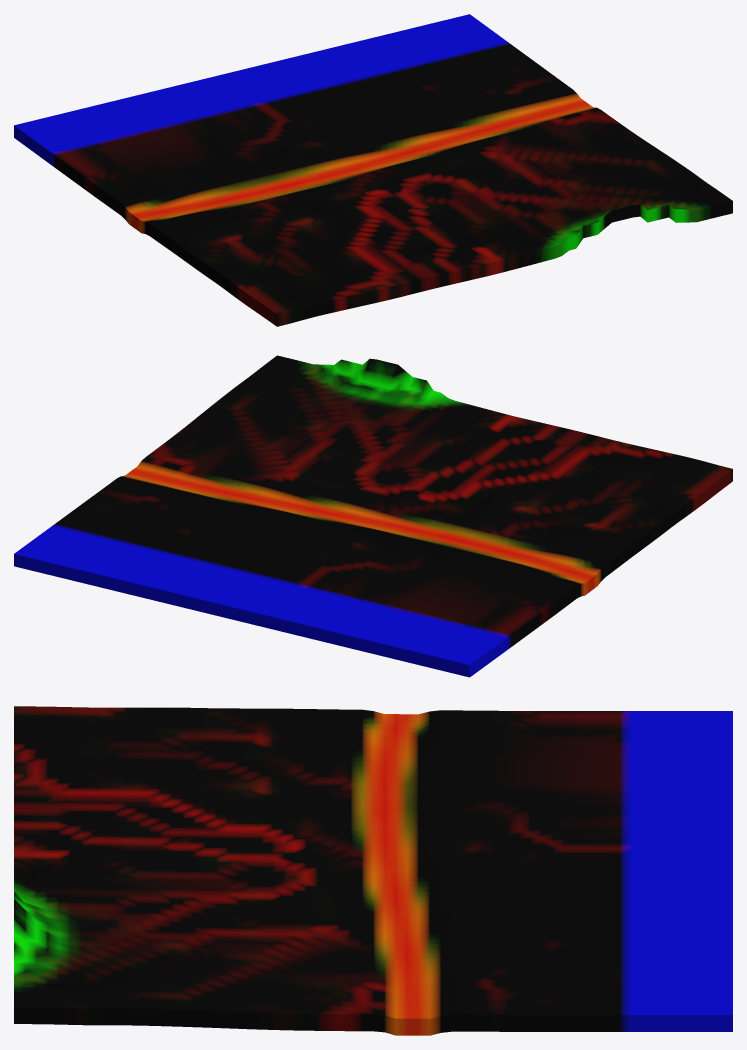
The model's file is Terrain_05_04.fbx.
The picture shows the model from 3 angles, top to bottom: view 1: azimuth 30°, elevation 25°; view 2: azimuth 150°, elevation 25°; view 3: azimuth 270°, elevation 25°; orthographic projection. The views are drawn at different scales.
Visible parts, largest first — view 1: Terrain_05_04_LOD0; view 2: Terrain_05_04_LOD0; view 3: Terrain_05_04_LOD0.
Boxes of the visible parts, bbox=[...] form: Terrain_05_04_LOD0: bbox=[14, 14, 732, 326]; Terrain_05_04_LOD0: bbox=[14, 355, 732, 677]; Terrain_05_04_LOD0: bbox=[14, 706, 732, 1035].
Size of what is drawn, in the model's own units: 384 by 33.3 by 384.
